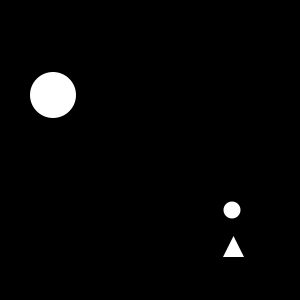rectangle: (30, 72, 76, 118), (224, 202, 240, 218)
triangle: (223, 236, 244, 257)
